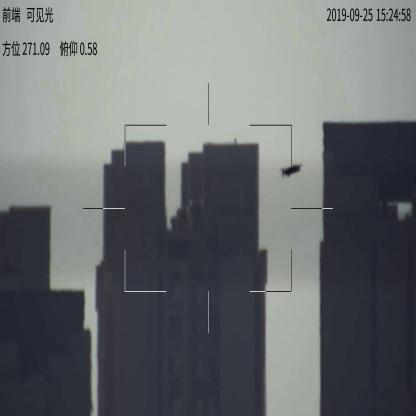uav: (281, 165, 300, 180)
